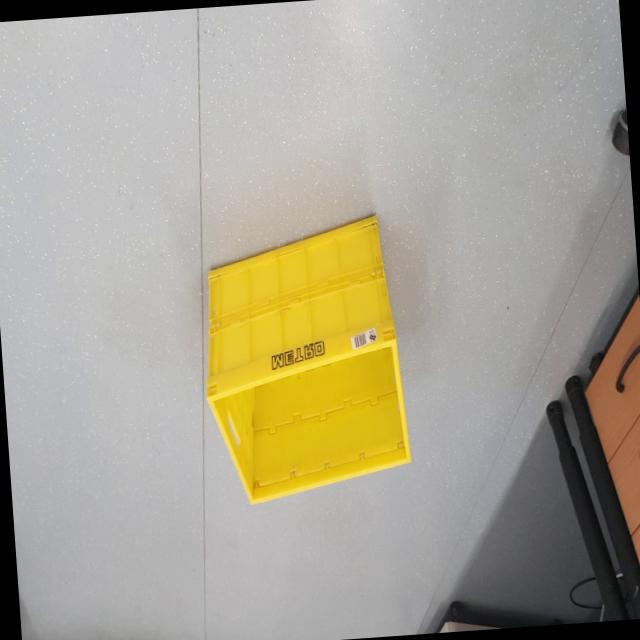box: (171, 177, 422, 526)
